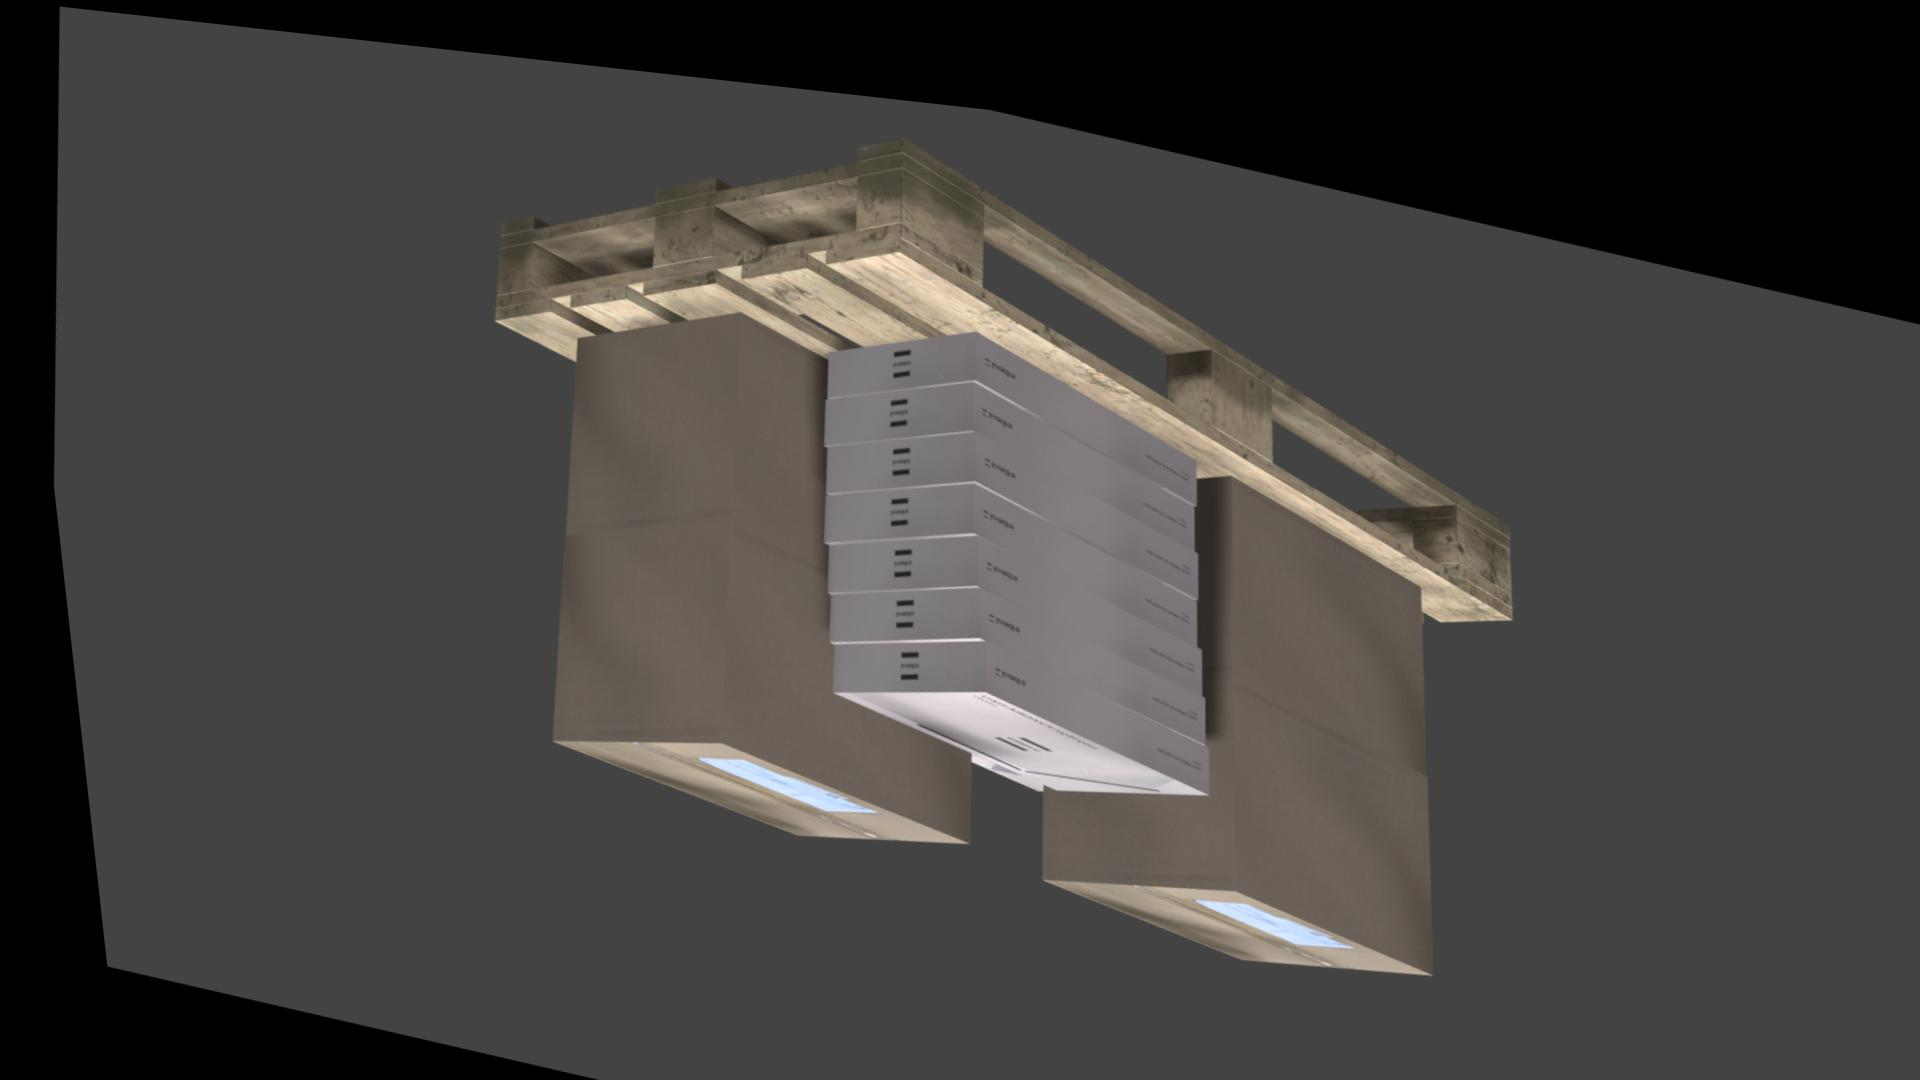group_box_left: (537, 502, 955, 822), (1025, 650, 1412, 944), (554, 295, 820, 550), (1189, 448, 1412, 744)
group_box_top: (535, 728, 949, 823), (1027, 858, 1411, 944)
laptop_left: (820, 309, 1189, 477), (815, 360, 1184, 524), (816, 410, 1187, 572), (812, 463, 1184, 621), (816, 516, 1188, 670), (818, 567, 1191, 719), (819, 620, 1193, 767)
laptop_top: (820, 671, 1189, 767), (956, 733, 1027, 769)
palet: (487, 113, 1503, 592)
